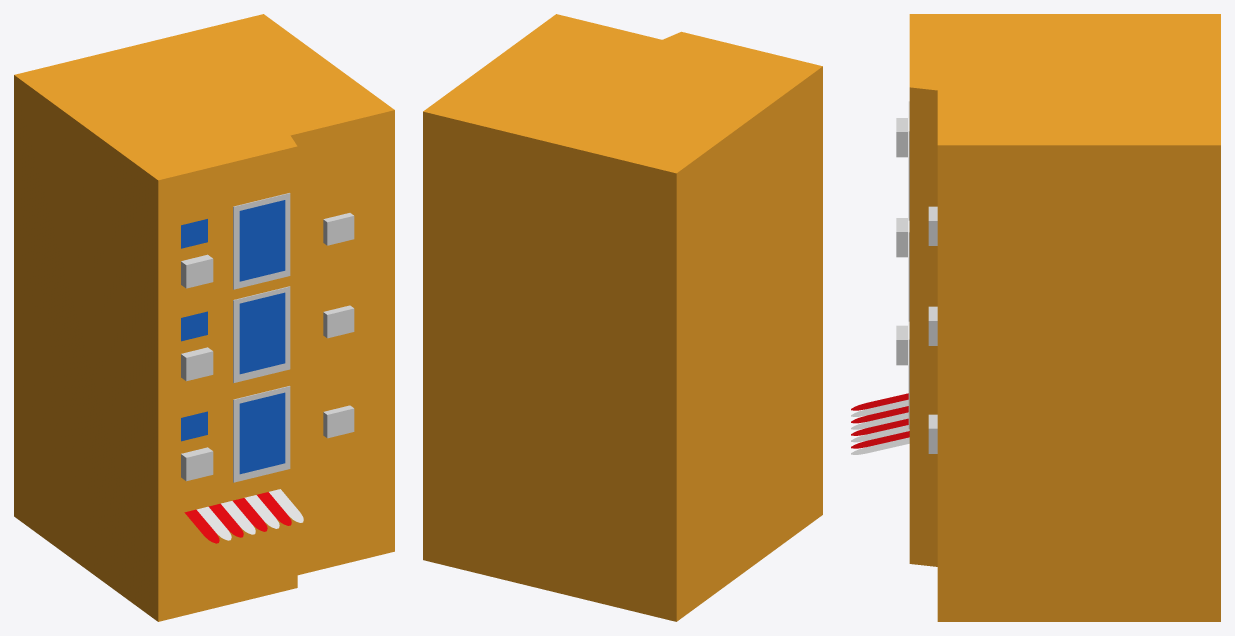
The model's file is House 6.fbx.
3 views of the same model, side by side, from view 1: azimuth 30°, elevation 25°; view 2: azimuth 150°, elevation 25°; view 3: azimuth 270°, elevation 25° (orthographic). The views are drawn at different scales.
Parts seen in each view (by area): view 1: House 6, House 6 Windows, House 6 Details, House 6 Curtain; view 2: House 6; view 3: House 6, House 6 Details, House 6 Curtain.
Boxes of the visible parts, <box> form: House 6: <box>14,14,394,621</box>; House 6 Windows: <box>181,200,285,474</box>; House 6 Details: <box>181,193,354,482</box>; House 6 Curtain: <box>184,489,303,543</box>; House 6: <box>423,14,822,621</box>; House 6: <box>909,14,1220,621</box>; House 6 Details: <box>896,101,937,453</box>; House 6 Curtain: <box>851,393,909,454</box>.
Size of the model in its own units: 200 by 338 by 238.
